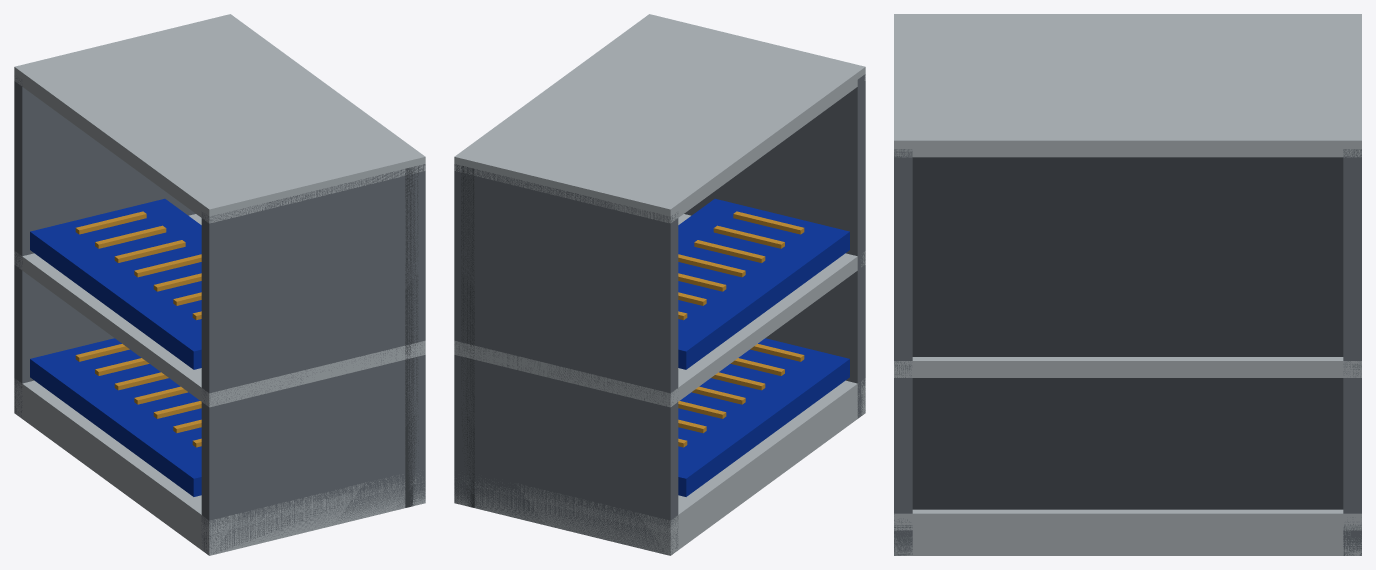
The model's file is L131_LAN_USB32_45.obj.
3 views of the same model, side by side, from view 1: azimuth 30°, elevation 25°; view 2: azimuth 150°, elevation 25°; view 3: azimuth 270°, elevation 25° (orthographic). The views are drawn at different scales.
Parts seen in each view (by area): view 1: LAN_USB32_45_Steel, LAN_USB32_45_Silver, LAN_USB32_45_Blue, LAN_USB32_45_Gold, LAN_USB32_45_Gray; view 2: LAN_USB32_45_Steel, LAN_USB32_45_Silver, LAN_USB32_45_Blue, LAN_USB32_45_Gold, LAN_USB32_45_Gray; view 3: LAN_USB32_45_Gray, LAN_USB32_45_Silver, LAN_USB32_45_Steel.
Boxes of the visible parts, <box> form: LAN_USB32_45_Steel: <box>14,78,425,555</box>; LAN_USB32_45_Silver: <box>14,14,425,555</box>; LAN_USB32_45_Blue: <box>30,198,201,496</box>; LAN_USB32_45_Gold: <box>75,211,201,447</box>; LAN_USB32_45_Gray: <box>405,166,418,507</box>; LAN_USB32_45_Steel: <box>454,74,865,554</box>; LAN_USB32_45_Silver: <box>454,14,865,555</box>; LAN_USB32_45_Blue: <box>678,198,849,496</box>; LAN_USB32_45_Gold: <box>678,211,804,447</box>; LAN_USB32_45_Gray: <box>461,166,474,507</box>; LAN_USB32_45_Gray: <box>912,157,1343,509</box>; LAN_USB32_45_Silver: <box>894,14,1361,555</box>; LAN_USB32_45_Steel: <box>894,149,1361,555</box>.
Bounding box in the file's own units: 0.016 × 0.0245 × 0.025.
